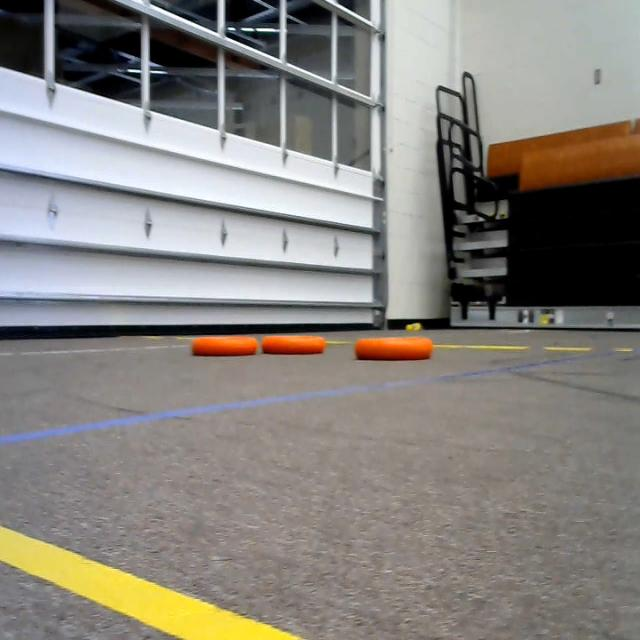note: (353, 326, 436, 366), (191, 331, 257, 364), (262, 330, 332, 356)
